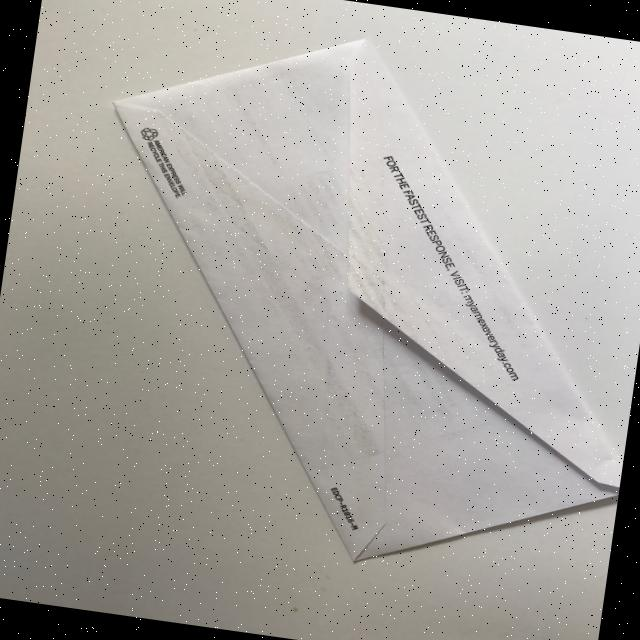paper: (52, 4, 640, 598)
